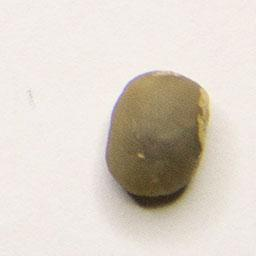peaberry: (102, 66, 213, 203)
